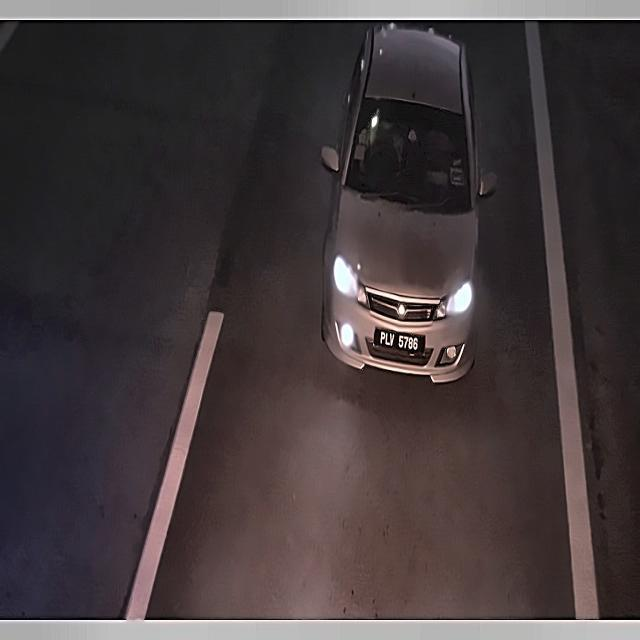car: (369, 318, 427, 363)
